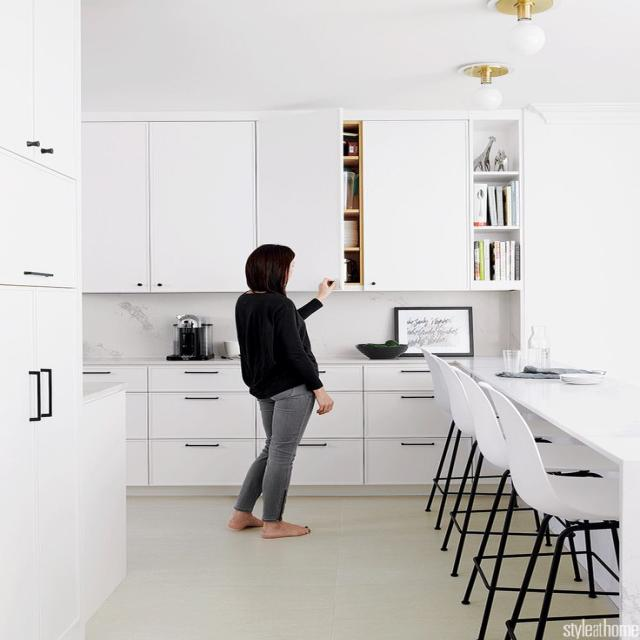obstacle: (85, 113, 523, 289), (444, 353, 639, 638)
person: (227, 243, 336, 539)
